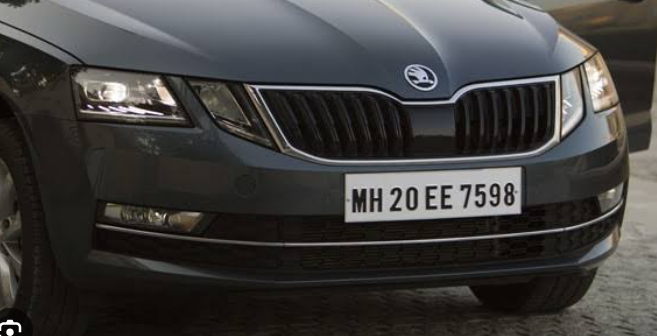licence: (344, 168, 521, 224)
